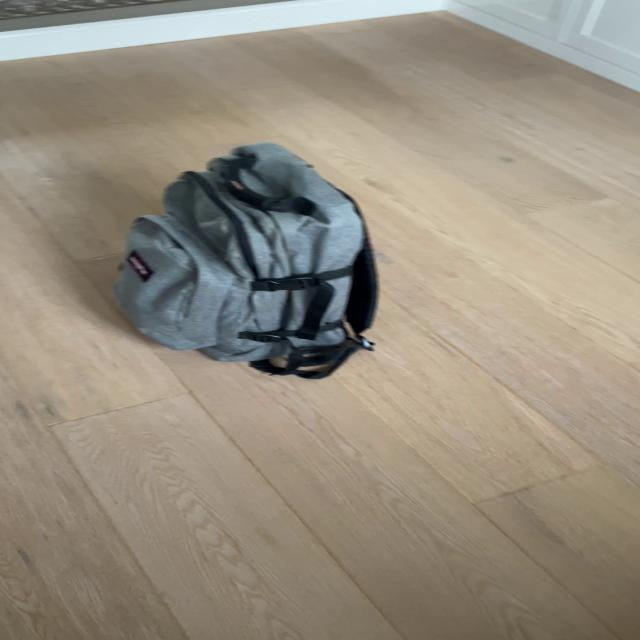backpack: (106, 131, 391, 383)
